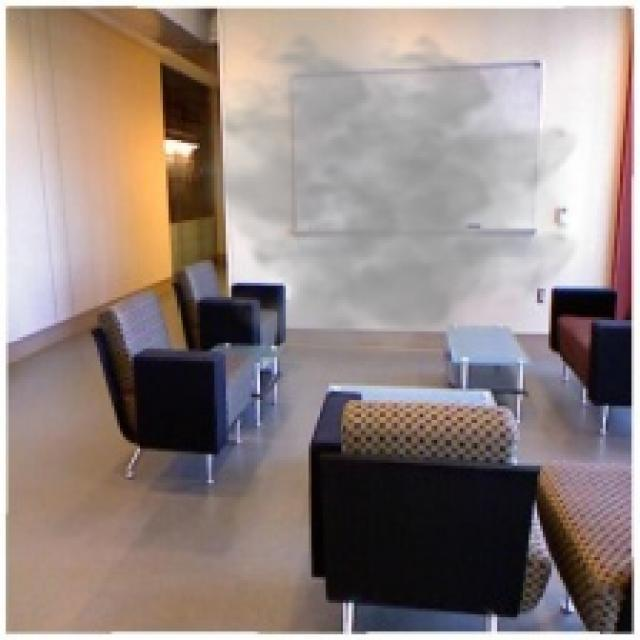Smoke: (188, 19, 583, 394)
